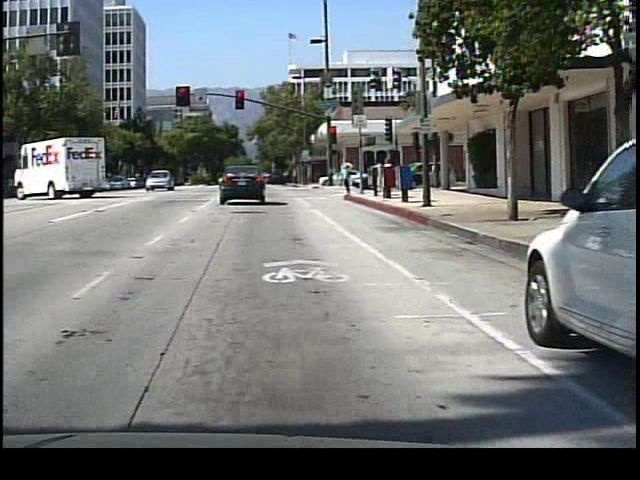person: (338, 151, 360, 199)
